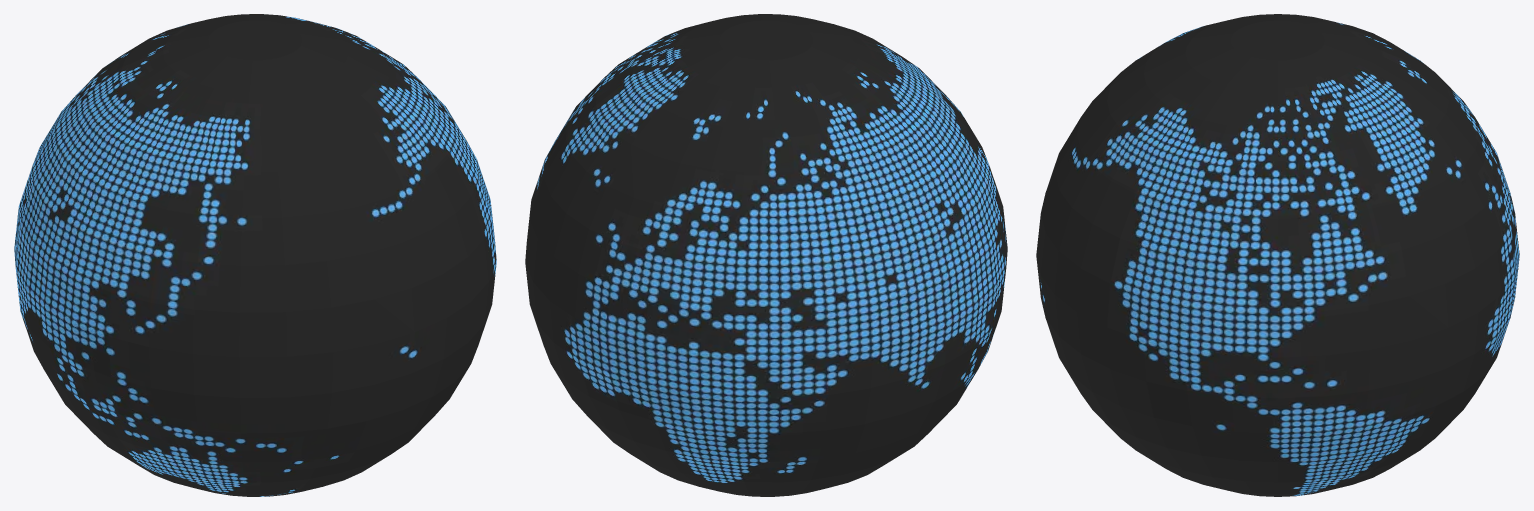
Rendered from earth-transformed.glb.
3 views of the same model, side by side, from view 1: azimuth 30°, elevation 25°; view 2: azimuth 150°, elevation 25°; view 3: azimuth 270°, elevation 25° (orthographic).
Parts seen in each view (by area): view 1: Sphere; view 2: Sphere; view 3: Sphere.
Boxes of the visible parts, x1,y1,x2,y2 form: Sphere: (14,14,496,496); Sphere: (525,14,1007,496); Sphere: (1036,14,1519,496).
Bounding box in the file's own units: 2 × 1.99 × 2.
1 material, 1 textured.
